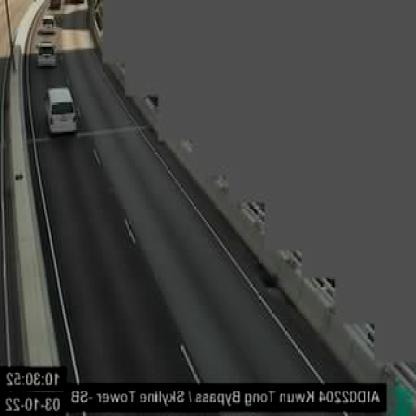Car: (43, 86, 79, 132), (36, 40, 58, 69), (42, 14, 57, 31)
